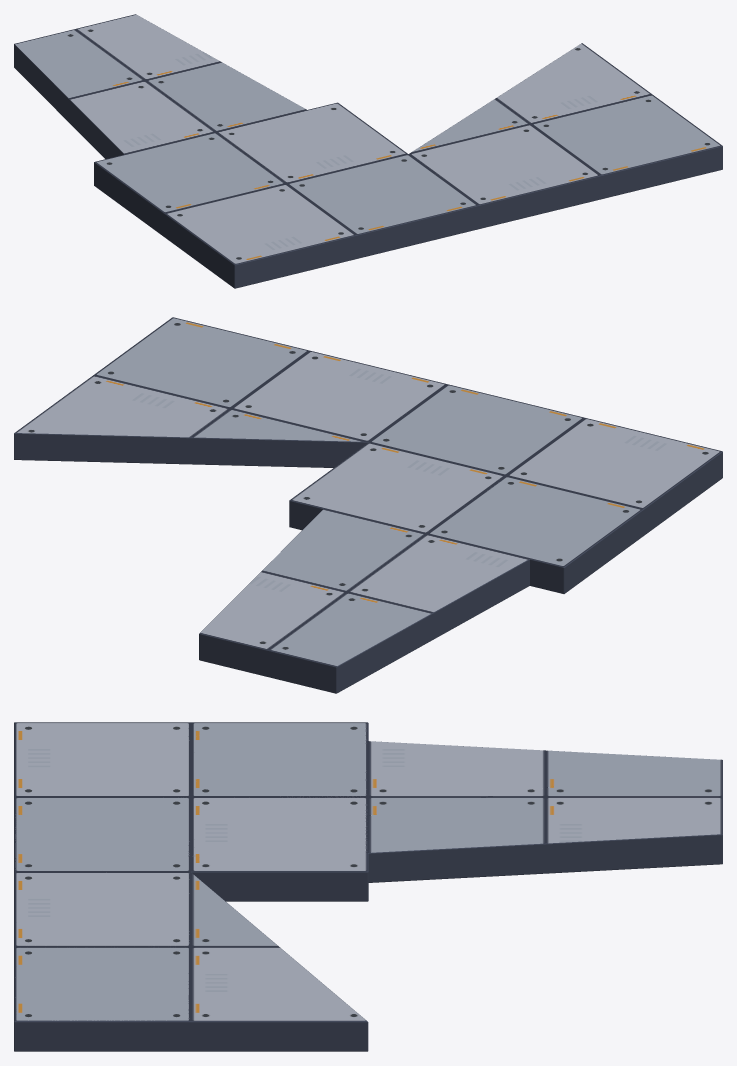
Rendered from native-deck-kit.glb.
3 views of the same model, one above another, from view 1: azimuth 30°, elevation 25°; view 2: azimuth 150°, elevation 25°; view 3: azimuth 270°, elevation 25° (orthographic). The views are drawn at different scales.
Visible parts, largest first — view 1: GEO-part-a3f5c1c3caa171a94d6c--floor, GEO-part-baa2e4a6cbe886a5c292--floor, GEO-part-73f48194371a682af29c--floor, GEO-part-e0dde5e97e9bed05b4b6--floor, GEO-part-e315cf681838afff216e--floor, GEO-part-926a2afada18f96d51a3--floor, GEO-part-0b833a4f3016609e9b96--floor, GEO-part-79328356071c674a2c8b--floor, GEO-part-94474fb38b16d77e6429--floor; view 2: GEO-part-73f48194371a682af29c--floor, GEO-part-e0dde5e97e9bed05b4b6--floor, GEO-part-a3f5c1c3caa171a94d6c--floor, GEO-part-baa2e4a6cbe886a5c292--floor, GEO-part-79328356071c674a2c8b--floor, GEO-part-926a2afada18f96d51a3--floor, GEO-part-771cc318e835d7a08abd--floor, GEO-part-0b833a4f3016609e9b96--floor, GEO-part-94474fb38b16d77e6429--floor, GEO-part-e315cf681838afff216e--floor, GEO-part-7902f7617fb23eb8abe3--floor; view 3: GEO-part-73f48194371a682af29c--floor, GEO-part-a3f5c1c3caa171a94d6c--floor, GEO-part-e0dde5e97e9bed05b4b6--floor, GEO-part-baa2e4a6cbe886a5c292--floor, GEO-part-79328356071c674a2c8b--floor, GEO-part-771cc318e835d7a08abd--floor, GEO-part-94474fb38b16d77e6429--floor, GEO-part-cf72797120e52d05662c--floor, GEO-part-e315cf681838afff216e--floor, GEO-part-926a2afada18f96d51a3--floor, GEO-part-0b833a4f3016609e9b96--floor, GEO-part-7902f7617fb23eb8abe3--floor.
Part boxes in pixels (<box>): GEO-part-a3f5c1c3caa171a94d6c--floor: <box>94,102,478,288</box>; GEO-part-baa2e4a6cbe886a5c292--floor: <box>167,108,722,286</box>; GEO-part-73f48194371a682af29c--floor: <box>14,14,367,264</box>; GEO-part-e0dde5e97e9bed05b4b6--floor: <box>236,43,721,275</box>; GEO-part-e315cf681838afff216e--floor: <box>235,95,720,287</box>; GEO-part-926a2afada18f96d51a3--floor: <box>164,166,475,287</box>; GEO-part-0b833a4f3016609e9b96--floor: <box>167,190,356,287</box>; GEO-part-79328356071c674a2c8b--floor: <box>97,146,720,288</box>; GEO-part-94474fb38b16d77e6429--floor: <box>96,133,241,263</box>; GEO-part-73f48194371a682af29c--floor: <box>199,395,537,693</box>; GEO-part-e0dde5e97e9bed05b4b6--floor: <box>14,317,720,467</box>; GEO-part-a3f5c1c3caa171a94d6c--floor: <box>289,385,722,593</box>; GEO-part-baa2e4a6cbe886a5c292--floor: <box>94,317,717,507</box>; GEO-part-79328356071c674a2c8b--floor: <box>179,319,716,593</box>; GEO-part-926a2afada18f96d51a3--floor: <box>384,386,722,508</box>; GEO-part-771cc318e835d7a08abd--floor: <box>464,391,717,566</box>; GEO-part-0b833a4f3016609e9b96--floor: <box>513,418,721,508</box>; GEO-part-94474fb38b16d77e6429--floor: <box>369,402,719,593</box>; GEO-part-e315cf681838afff216e--floor: <box>117,317,714,449</box>; GEO-part-7902f7617fb23eb8abe3--floor: <box>588,419,713,532</box>; GEO-part-73f48194371a682af29c--floor: <box>14,723,722,882</box>; GEO-part-a3f5c1c3caa171a94d6c--floor: <box>14,722,368,901</box>; GEO-part-e0dde5e97e9bed05b4b6--floor: <box>14,726,368,1051</box>; GEO-part-baa2e4a6cbe886a5c292--floor: <box>14,722,190,1051</box>; GEO-part-79328356071c674a2c8b--floor: <box>14,722,366,1019</box>; GEO-part-771cc318e835d7a08abd--floor: <box>14,722,366,871</box>; GEO-part-94474fb38b16d77e6429--floor: <box>15,722,368,871</box>; GEO-part-cf72797120e52d05662c--floor: <box>14,723,186,1016</box>; GEO-part-e315cf681838afff216e--floor: <box>14,727,187,1021</box>; GEO-part-926a2afada18f96d51a3--floor: <box>14,722,190,871</box>; GEO-part-0b833a4f3016609e9b96--floor: <box>14,722,190,796</box>; GEO-part-7902f7617fb23eb8abe3--floor: <box>14,722,179,795</box>.
Size of the model in its own units: 4 by 0.1875 by 4.
2 materials, 1 textured.
